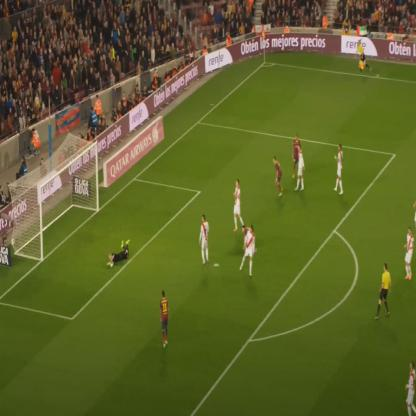goal: (7, 140, 145, 301)
